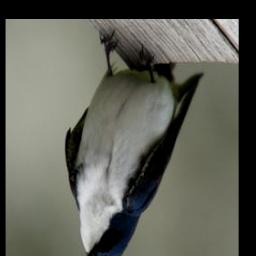Swallow: (64, 28, 205, 256)
